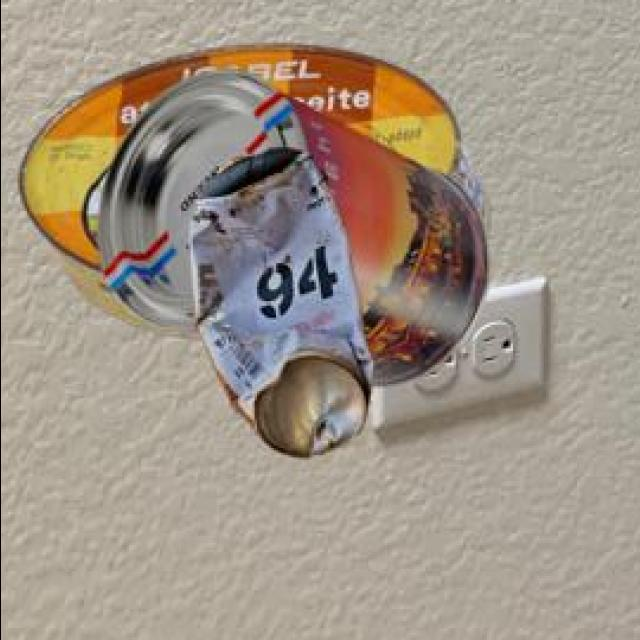logam: (15, 49, 485, 343), (94, 72, 485, 390), (186, 153, 369, 461)
